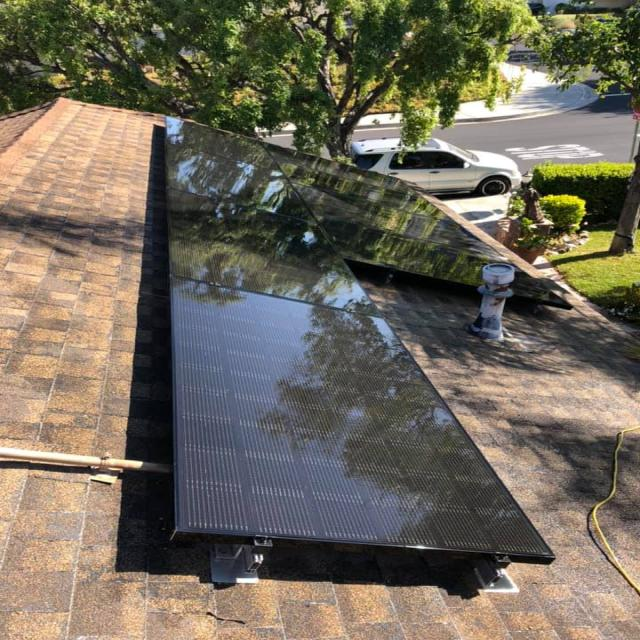clean-solar-panel: (167, 118, 553, 562)
